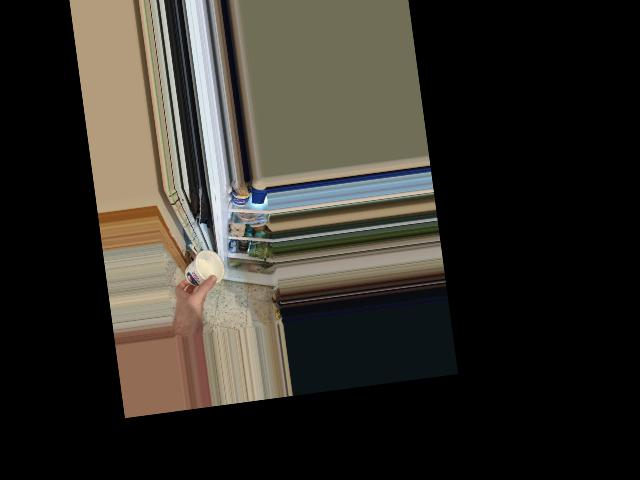cotage: (180, 247, 226, 291)
